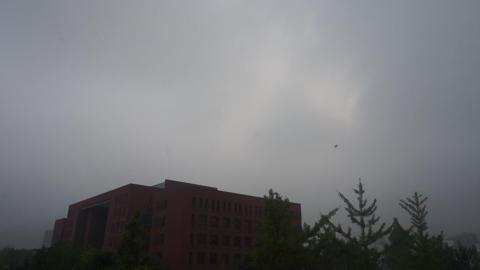UAV: (333, 144, 339, 148)
